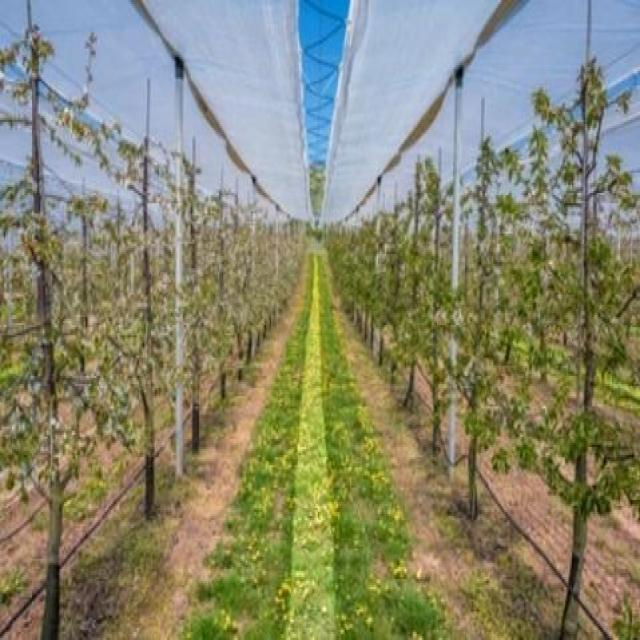row: (66, 239, 558, 640)
